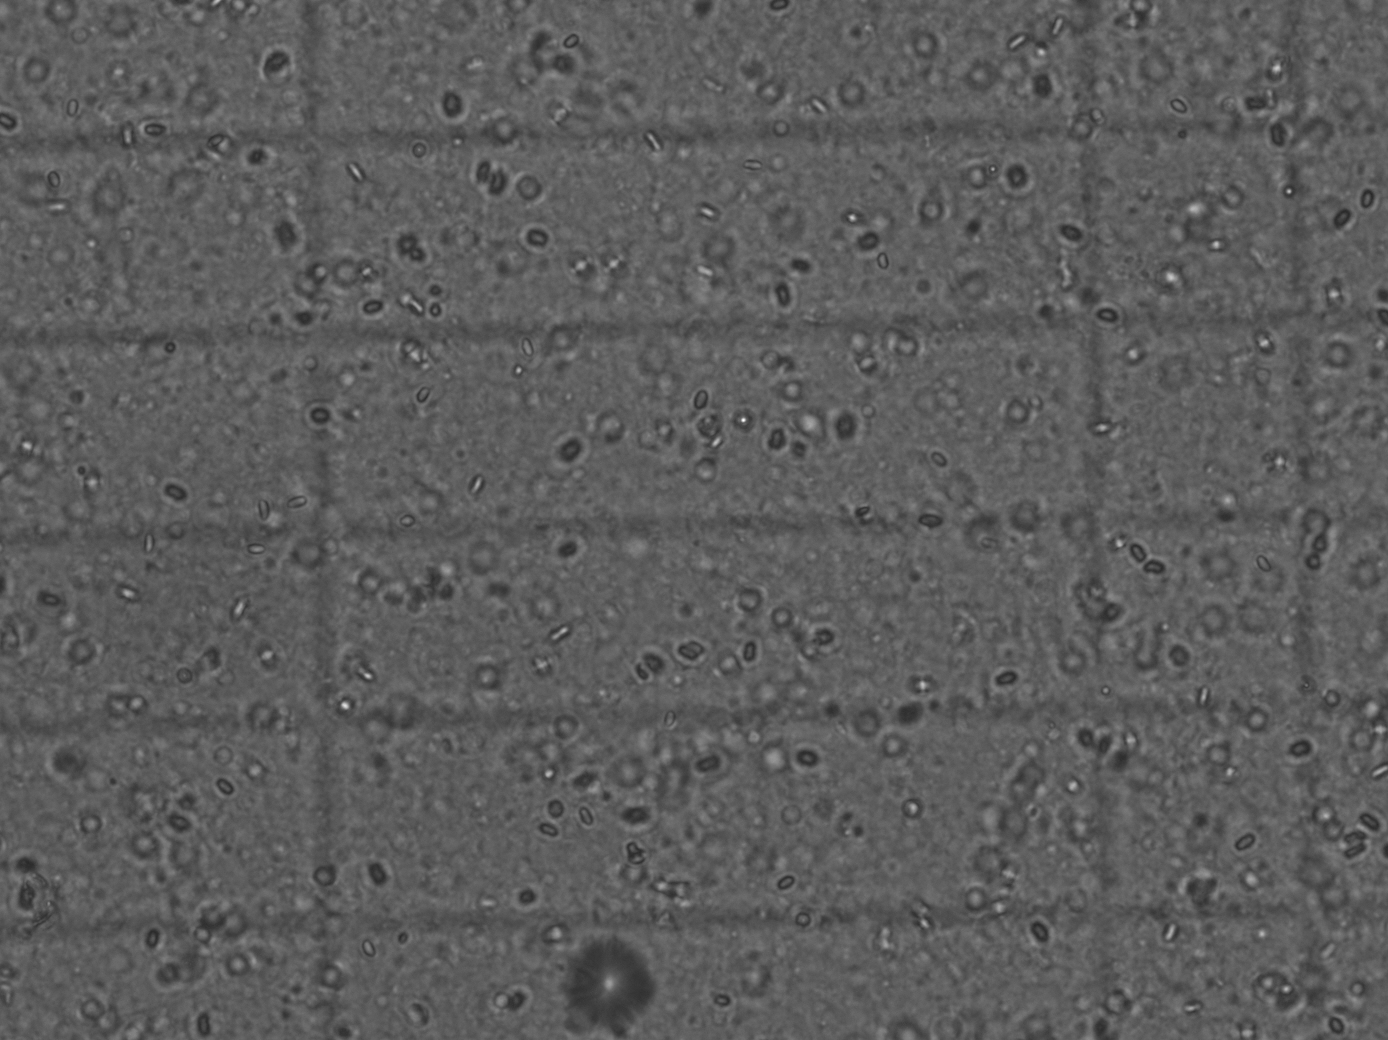spore: (1171, 101, 1185, 113), (363, 943, 375, 957), (416, 390, 428, 402), (68, 101, 79, 114), (780, 875, 793, 886), (415, 144, 426, 157), (695, 398, 707, 409), (422, 389, 432, 401), (877, 257, 888, 269), (250, 545, 263, 555), (400, 518, 412, 528), (1256, 560, 1268, 570), (580, 815, 592, 825), (797, 918, 810, 926), (295, 499, 306, 509), (364, 303, 375, 312), (405, 518, 416, 528), (398, 934, 408, 944), (1361, 199, 1373, 208), (858, 509, 870, 518), (209, 137, 218, 146), (1241, 841, 1251, 850), (1101, 686, 1112, 695), (1101, 311, 1112, 320), (545, 770, 556, 779), (562, 42, 574, 49), (988, 165, 998, 174), (287, 501, 297, 510), (662, 719, 672, 728), (217, 138, 227, 146), (260, 511, 270, 520), (667, 720, 678, 728), (521, 346, 532, 354), (146, 129, 157, 137), (1371, 770, 1381, 778), (468, 485, 478, 493), (1068, 782, 1078, 790), (1007, 675, 1017, 683), (181, 677, 192, 684), (780, 885, 791, 891), (1379, 771, 1388, 779), (375, 303, 382, 311), (1007, 43, 1017, 49), (745, 165, 756, 170), (1234, 842, 1242, 850), (1051, 26, 1059, 33), (35, 921, 45, 926), (1380, 764, 1388, 770), (176, 676, 183, 683), (858, 506, 870, 509)
